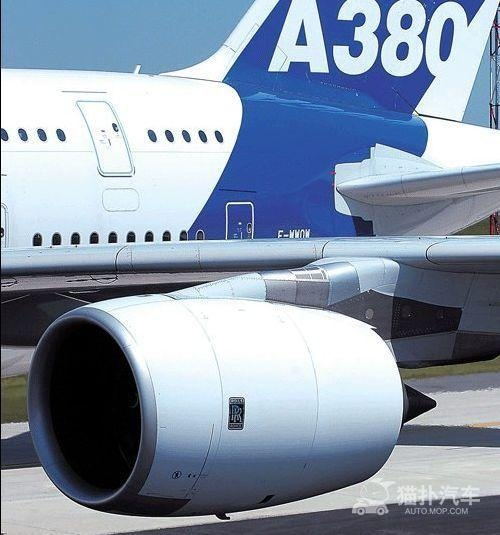airplane: (1, 1, 500, 509)
